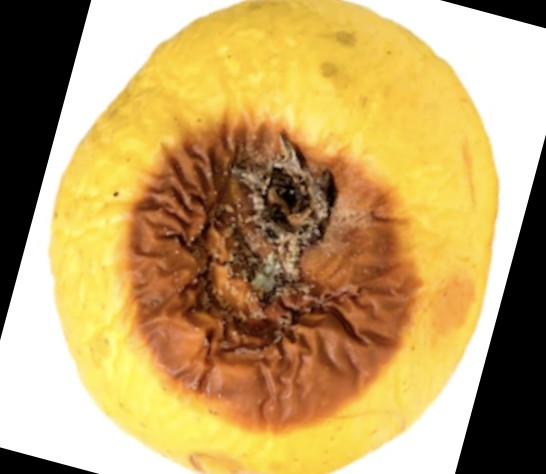rotten_apple: (45, 1, 502, 474)
